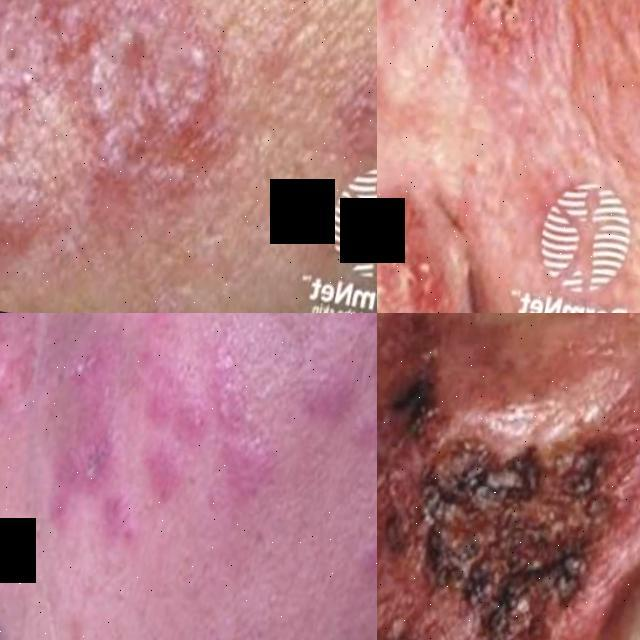lupus-detected: (0, 313, 377, 640), (377, 313, 640, 640), (0, 0, 277, 283), (244, 18, 377, 208), (377, 116, 499, 313), (377, 0, 588, 85), (0, 313, 129, 421)
